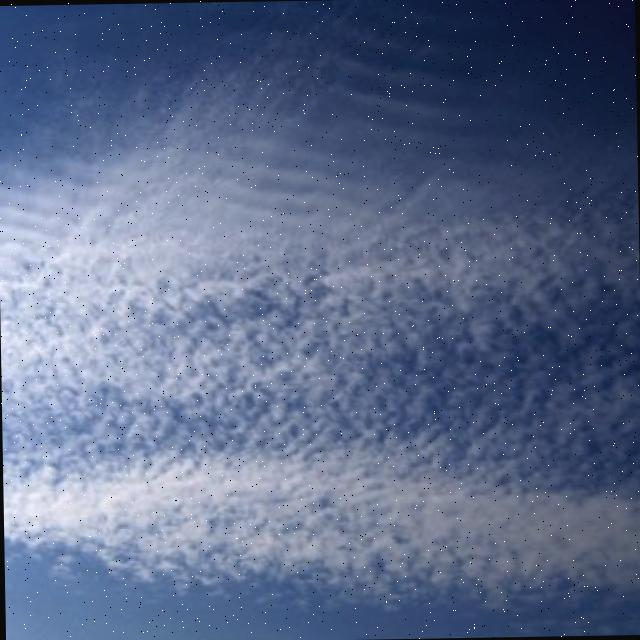Cc: (1, 102, 640, 592)
